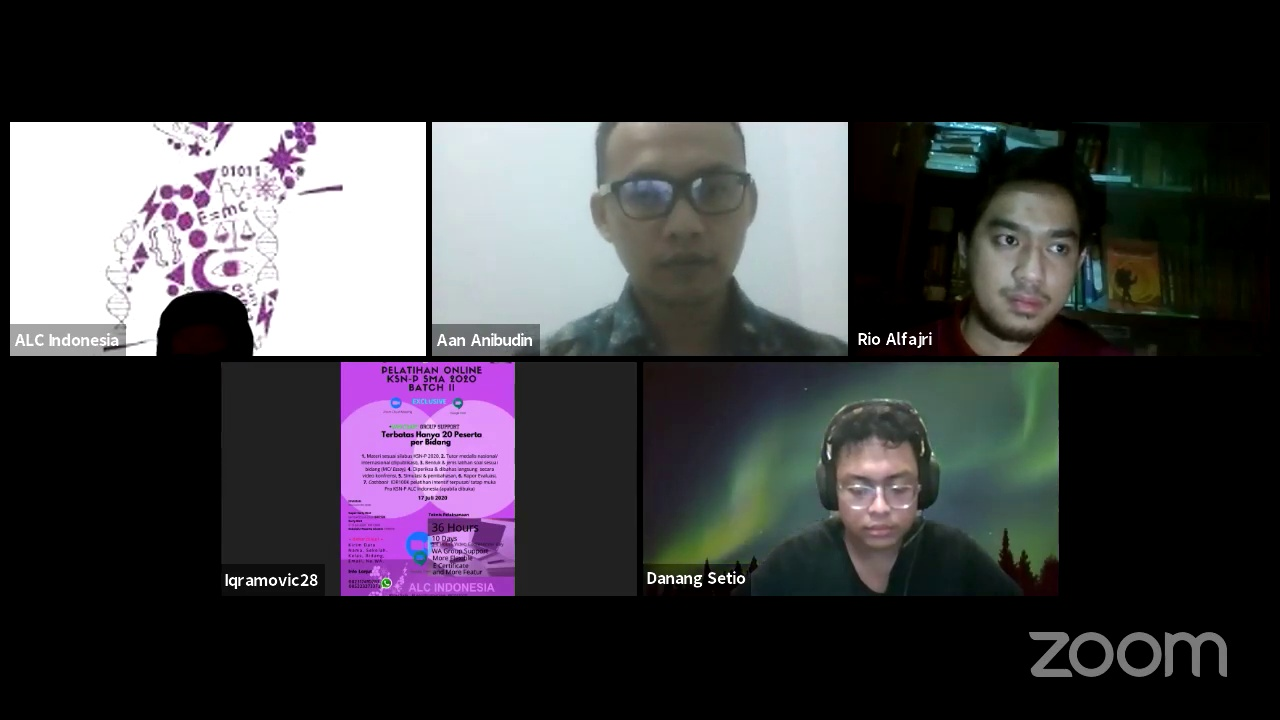Distracted: (935, 164, 1110, 339), (810, 408, 969, 560)
Not Distracted: (589, 132, 758, 291)
